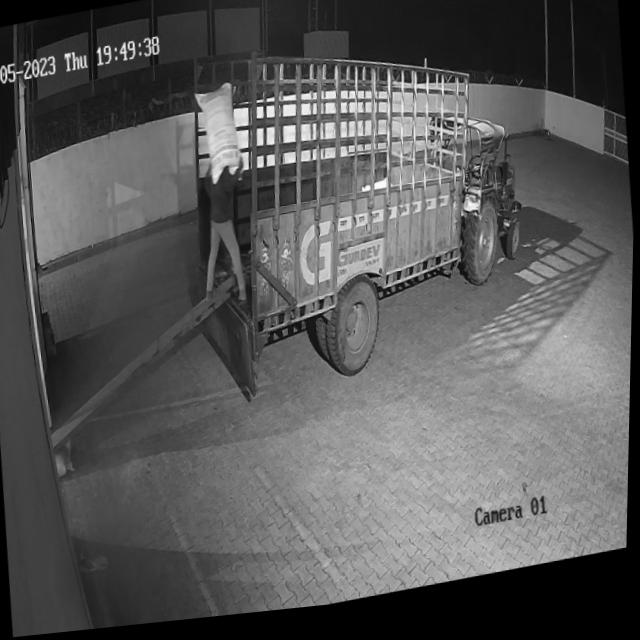sack: (193, 84, 242, 193)
